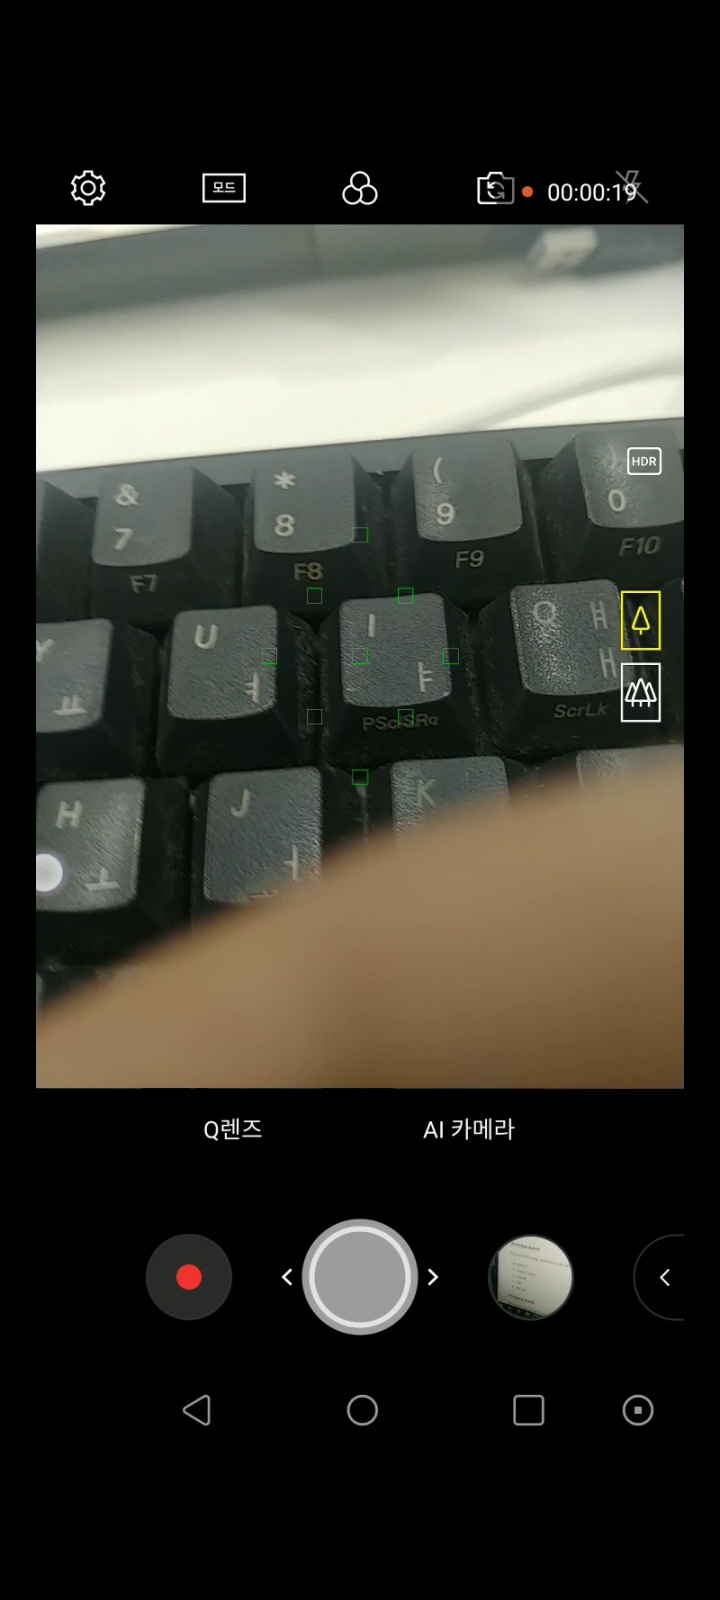Cursor: (37, 849, 69, 896)
